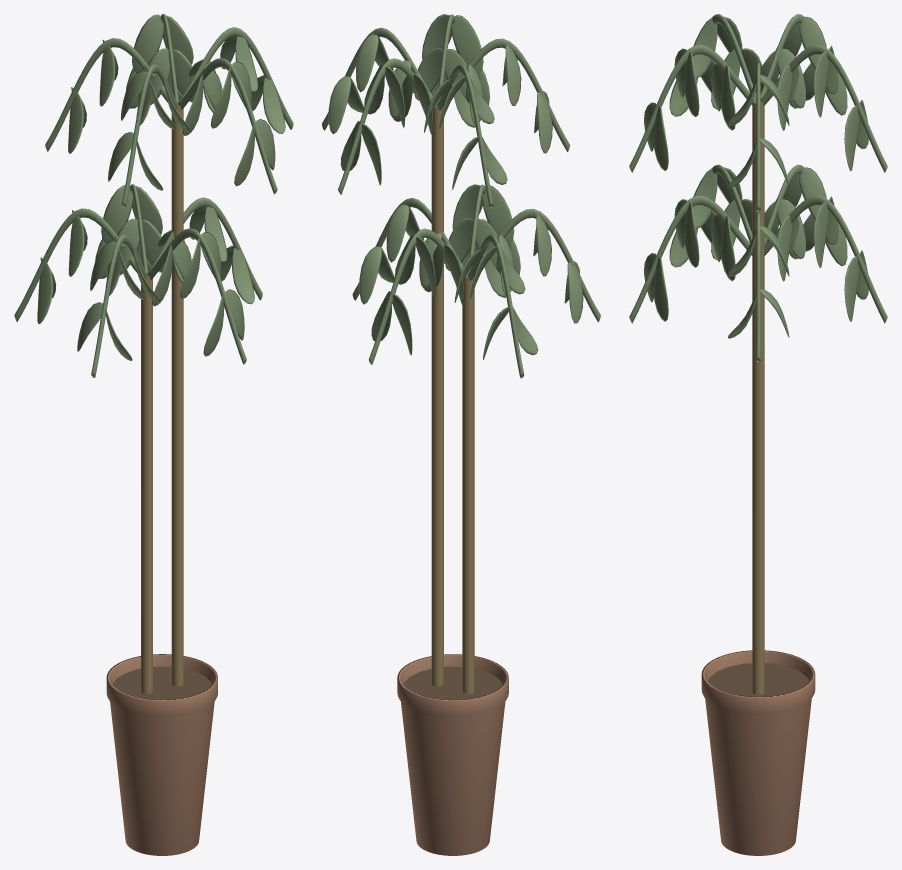
File: palm.glb
The picture shows the model from 3 angles, left to right: view 1: azimuth 30°, elevation 25°; view 2: azimuth 150°, elevation 25°; view 3: azimuth 270°, elevation 25°; orthographic projection.
Visible parts, largest first — view 1: planter-hollow-vessel, rooted-cane-1, rooted-cane-0, planter-contained-soil, palm-0-frond-1, palm-1-frond-1, palm-1-frond-3, palm-0-frond-3, palm-1-frond-0, palm-1-leaflet-4-2--1, palm-1-frond-2, palm-0-frond-2 (+25 smaller); view 2: planter-hollow-vessel, rooted-cane-1, rooted-cane-0, planter-contained-soil, palm-0-frond-2, palm-0-frond-4, palm-1-frond-2, palm-1-frond-4, palm-0-frond-3, palm-1-frond-3, palm-1-leaflet-1-2-1, palm-0-leaflet-1-2-1 (+18 smaller); view 3: planter-hollow-vessel, rooted-cane-1, planter-contained-soil, palm-1-frond-1, palm-0-frond-1, palm-1-frond-4, palm-0-frond-4, palm-1-leaflet-2-2--1, palm-0-leaflet-2-2--1, palm-0-frond-0, palm-1-frond-0, palm-1-leaflet-3-2-1 (+18 smaller).
Part boxes in pixels (bbox=[...]): planter-hollow-vessel: bbox=[106, 654, 217, 855]; rooted-cane-1: bbox=[171, 105, 183, 686]; rooted-cane-0: bbox=[141, 276, 152, 693]; planter-contained-soil: bbox=[113, 666, 211, 699]; palm-0-frond-1: bbox=[147, 228, 246, 364]; palm-1-frond-1: bbox=[178, 58, 277, 194]; palm-1-frond-3: bbox=[45, 38, 167, 151]; palm-0-frond-3: bbox=[14, 208, 137, 321]; palm-1-frond-0: bbox=[178, 27, 293, 129]; palm-1-leaflet-4-2--1: bbox=[132, 14, 163, 72]; palm-1-frond-2: bbox=[122, 64, 178, 207]; palm-0-frond-2: bbox=[91, 234, 147, 377]; planter-hollow-vessel: bbox=[397, 654, 508, 855]; rooted-cane-1: bbox=[431, 106, 443, 686]; rooted-cane-0: bbox=[462, 276, 474, 694]; planter-contained-soil: bbox=[403, 666, 502, 699]; palm-0-frond-2: bbox=[474, 208, 600, 322]; palm-0-frond-4: bbox=[368, 228, 467, 364]; palm-1-frond-2: bbox=[443, 38, 570, 151]; palm-1-frond-4: bbox=[338, 58, 437, 194]; palm-0-frond-3: bbox=[468, 234, 524, 378]; palm-1-frond-3: bbox=[437, 64, 493, 208]; palm-1-leaflet-1-2-1: bbox=[451, 15, 483, 71]; palm-0-leaflet-1-2-1: bbox=[482, 185, 514, 241]; planter-hollow-vessel: bbox=[701, 650, 815, 855]; rooted-cane-1: bbox=[752, 102, 764, 694]; planter-contained-soil: bbox=[708, 663, 808, 696]; palm-1-frond-1: bbox=[629, 45, 756, 172]; palm-0-frond-1: bbox=[629, 195, 752, 323]; palm-1-frond-4: bbox=[760, 45, 887, 172]; palm-0-frond-4: bbox=[764, 195, 887, 323]; palm-1-leaflet-2-2--1: bbox=[692, 18, 717, 77]; palm-0-leaflet-2-2--1: bbox=[692, 168, 717, 228]; palm-0-frond-0: bbox=[756, 213, 760, 362]; palm-1-frond-0: bbox=[756, 62, 760, 211]; palm-1-leaflet-3-2-1: bbox=[799, 16, 826, 69].
Size of the model in its own units: 0.8812 by 2.79 by 0.8068.
